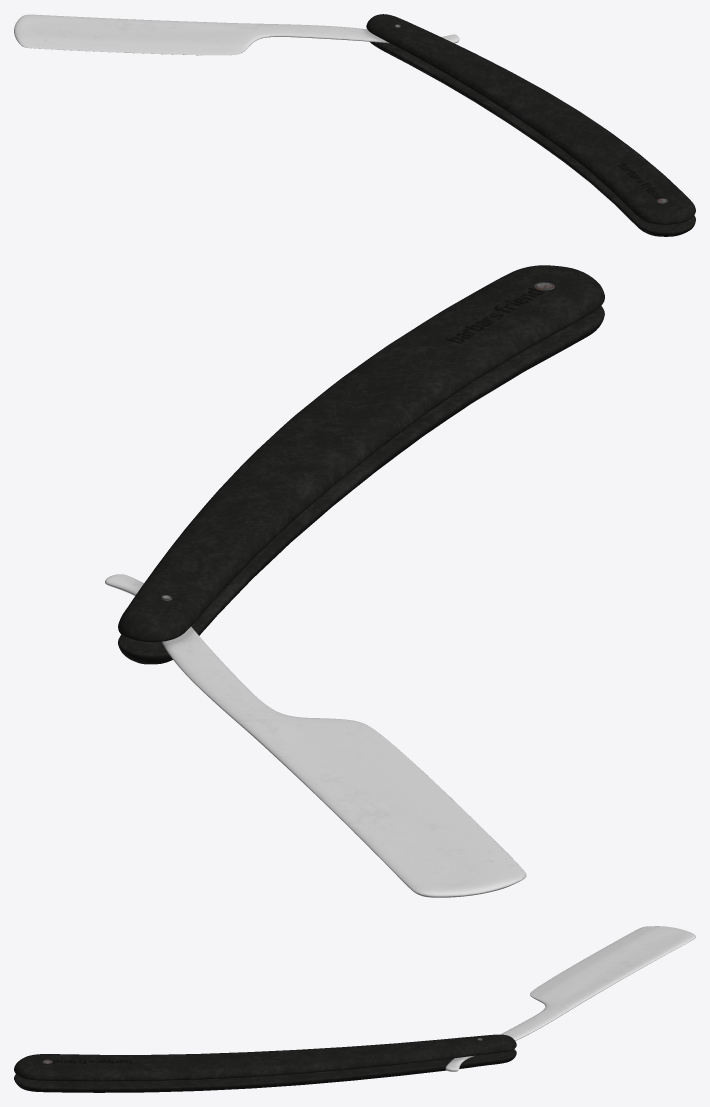
The model's file is barberknife.glb.
3 views of the same model, one above another, from view 1: azimuth 30°, elevation 25°; view 2: azimuth 150°, elevation 25°; view 3: azimuth 270°, elevation 25° (orthographic). The views are drawn at different scales.
Visible parts, largest first — view 1: Object003_1001_0 (×2); view 2: Object003_1001_0 (×2); view 3: Object003_1001_0 (×2).
Boxes of the visible parts, left/top/right/bottom form: Object003_1001_0 (×2): left=14, top=14, right=695, bottom=236; Object003_1001_0 (×2): left=105, top=265, right=604, bottom=897; Object003_1001_0 (×2): left=14, top=926, right=695, bottom=1092.
Size of the model in its own units: 0.1694 by 0.0166 by 0.3127.
1 material, 1 textured.
